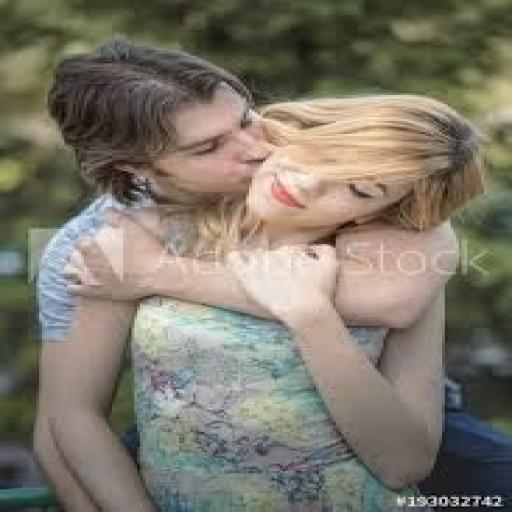hugging: (28, 39, 490, 510)
